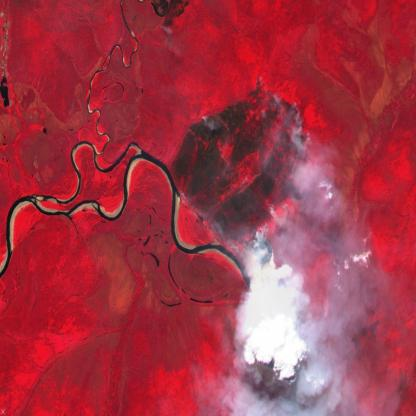fire: (170, 72, 312, 271)
